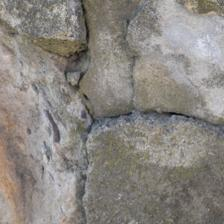Crack: (0, 0, 86, 83), (0, 92, 127, 132), (87, 14, 138, 86)
